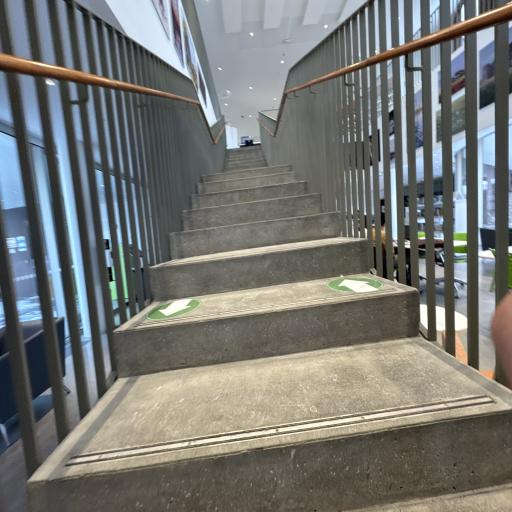Stairs: (27, 146, 512, 512), (28, 338, 512, 512), (114, 274, 419, 377), (150, 238, 368, 300)
